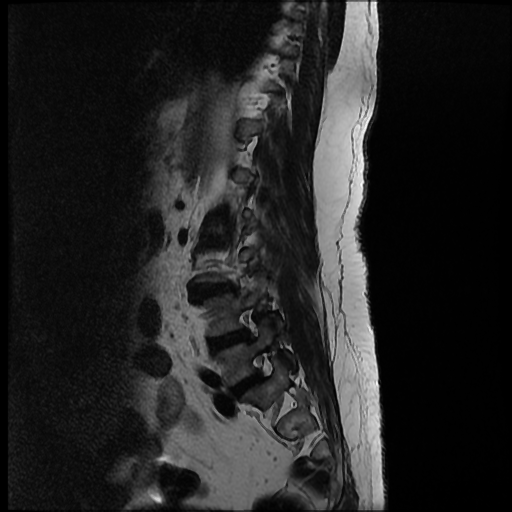LFS0: (242, 343, 282, 388), (232, 300, 268, 347)
